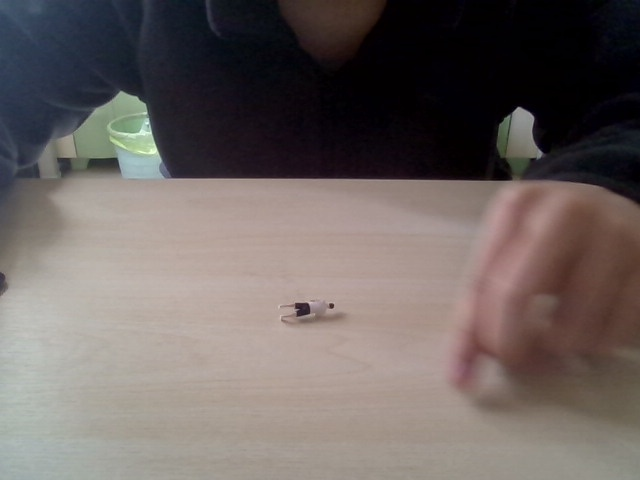fall: (274, 296, 338, 325)
